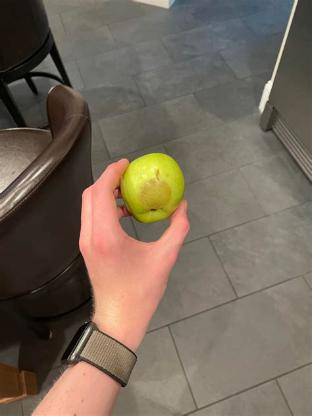defect: (140, 168, 174, 212)
